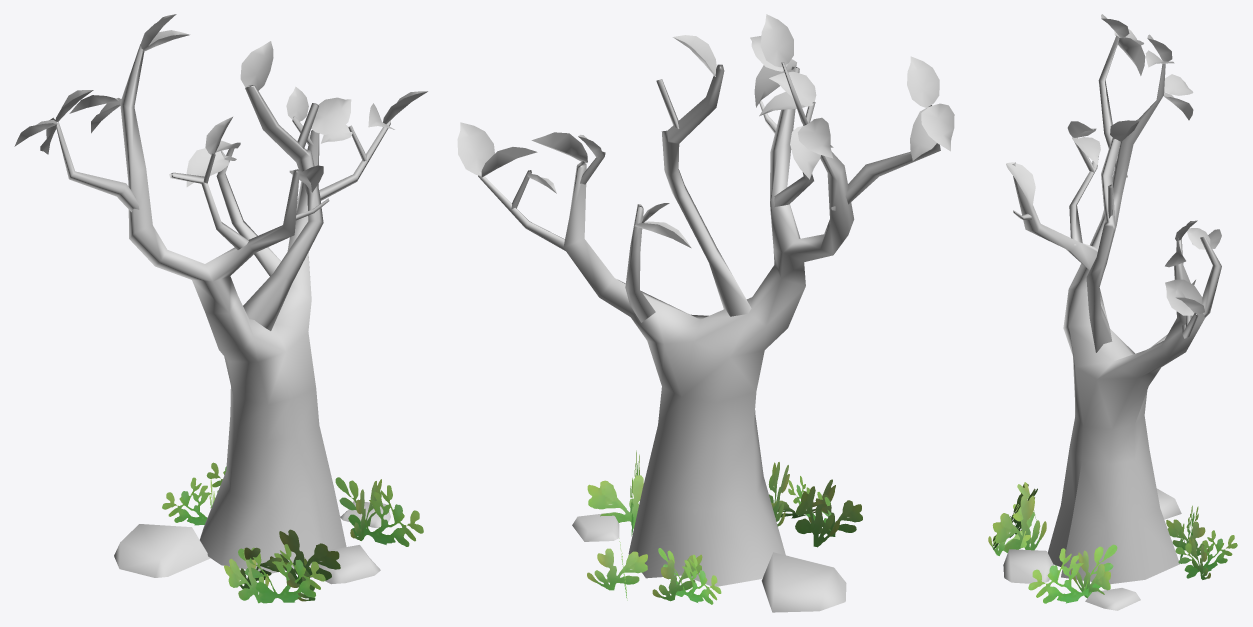
The picture shows the model from 3 angles, left to right: view 1: azimuth 30°, elevation 25°; view 2: azimuth 150°, elevation 25°; view 3: azimuth 270°, elevation 25°; orthographic projection. The views are drawn at different scales.
Parts seen in each view (by area): view 1: S_part_1124_a, S_part_1124_b; view 2: S_part_1124_a, S_part_1124_b; view 3: S_part_1124_a, S_part_1124_b.
Boxes of the visible parts, x1,y1,x2,y2 form: S_part_1124_a: (14,14,427,584); S_part_1124_b: (162,462,423,603); S_part_1124_a: (457,14,954,612); S_part_1124_b: (587,450,862,604); S_part_1124_a: (1003,14,1221,610); S_part_1124_b: (988,482,1237,603).
Size of the model in its own units: 2.39 by 2.85 by 1.34.
Materials: 2 (1 with a texture image).
